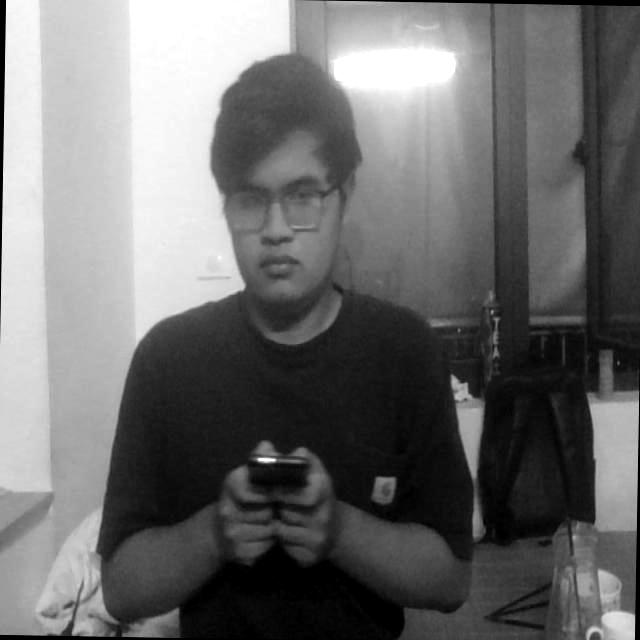phone: (238, 426, 320, 520)
